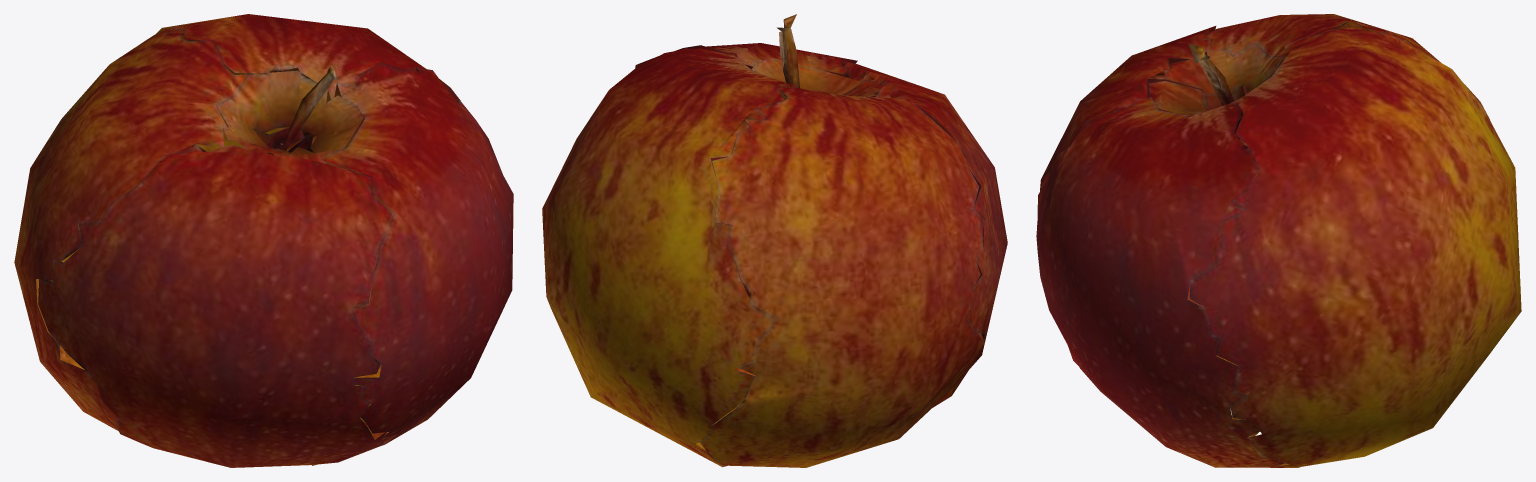
The model's file is apple.glb.
3 views of the same model, side by side, from view 1: azimuth 30°, elevation 25°; view 2: azimuth 150°, elevation 25°; view 3: azimuth 270°, elevation 25° (orthographic). The views are drawn at different scales.
Parts seen in each view (by area): view 1: food_apple_01; view 2: food_apple_01; view 3: food_apple_01.
Boxes of the visible parts, x1,y1,x2,y2 form: food_apple_01: (14,14,513,467); food_apple_01: (542,14,1007,467); food_apple_01: (1036,14,1521,467).
Bounding box in the file's own units: 0.0979 × 0.0849 × 0.0952.
1 material, 1 textured.
